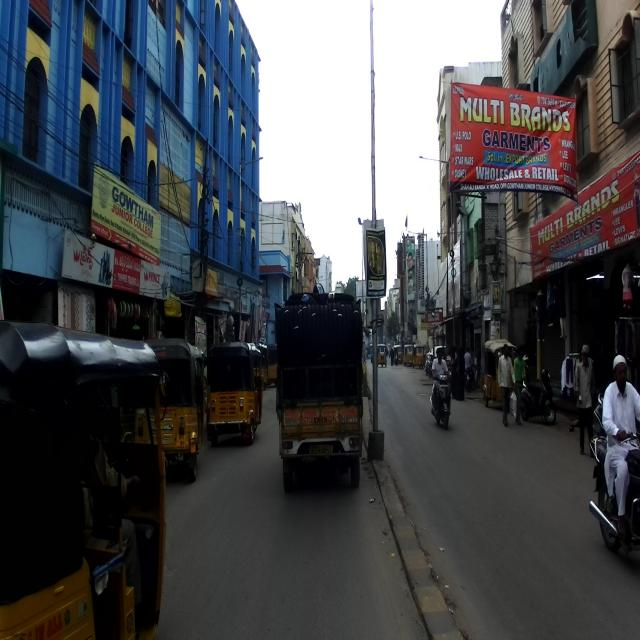autorickshaw: (0, 320, 171, 639), (141, 337, 208, 482), (205, 341, 265, 447)
motorcycle: (588, 426, 639, 552)
scooter: (430, 365, 451, 430)
truck: (275, 285, 365, 488)
